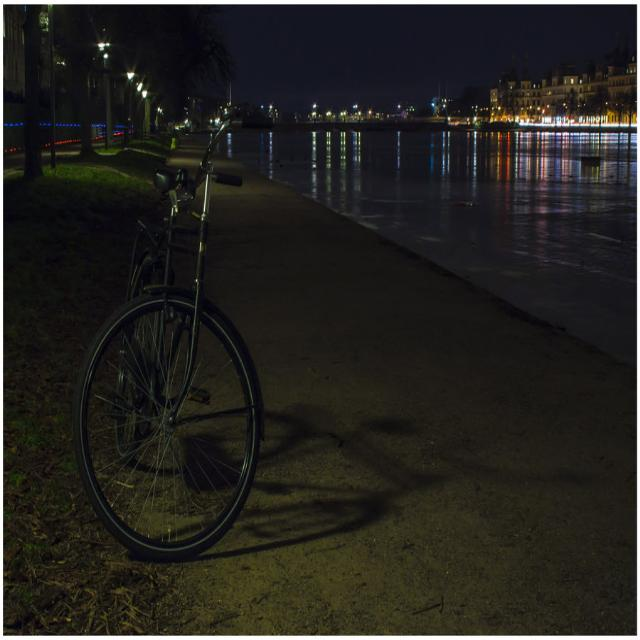Bicycle: (69, 170, 269, 559)
